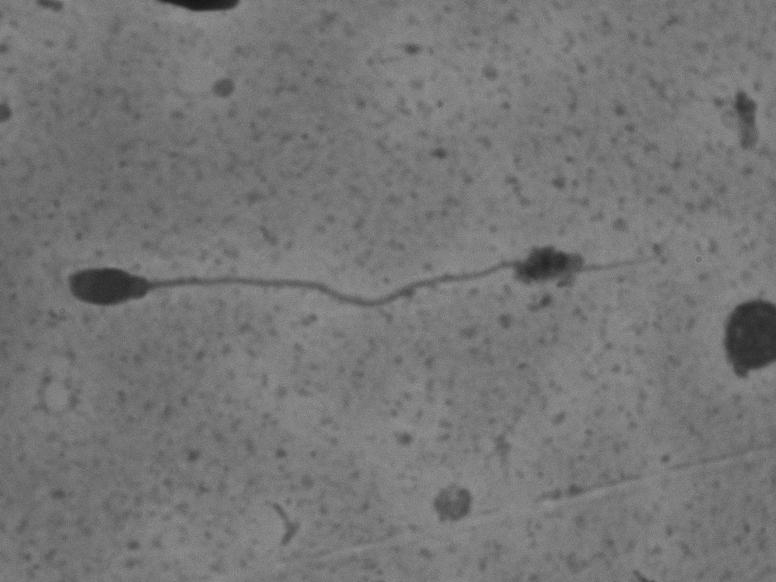Abnormal: (43, 174, 703, 348)
